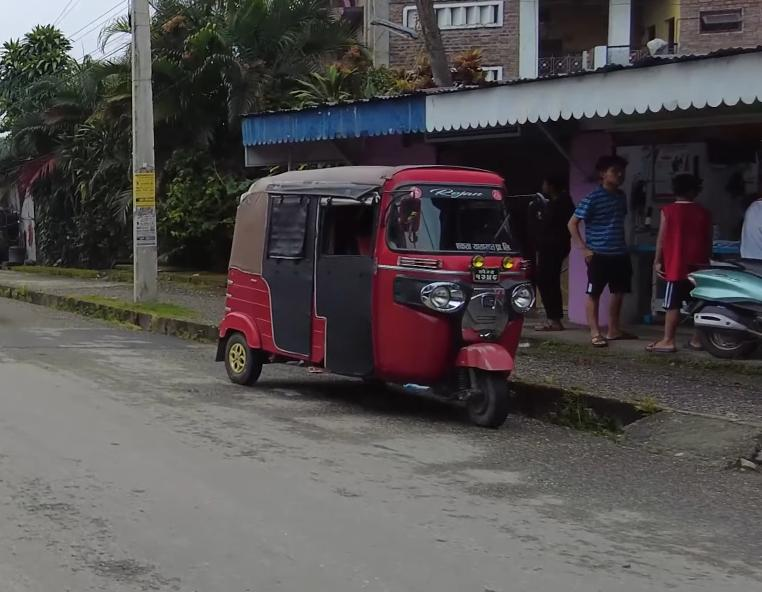auto_rickshaw: (207, 157, 544, 430)
scooter: (677, 243, 762, 355)
